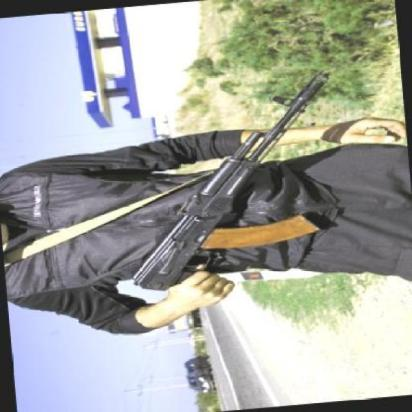Gun: (112, 71, 349, 308)
